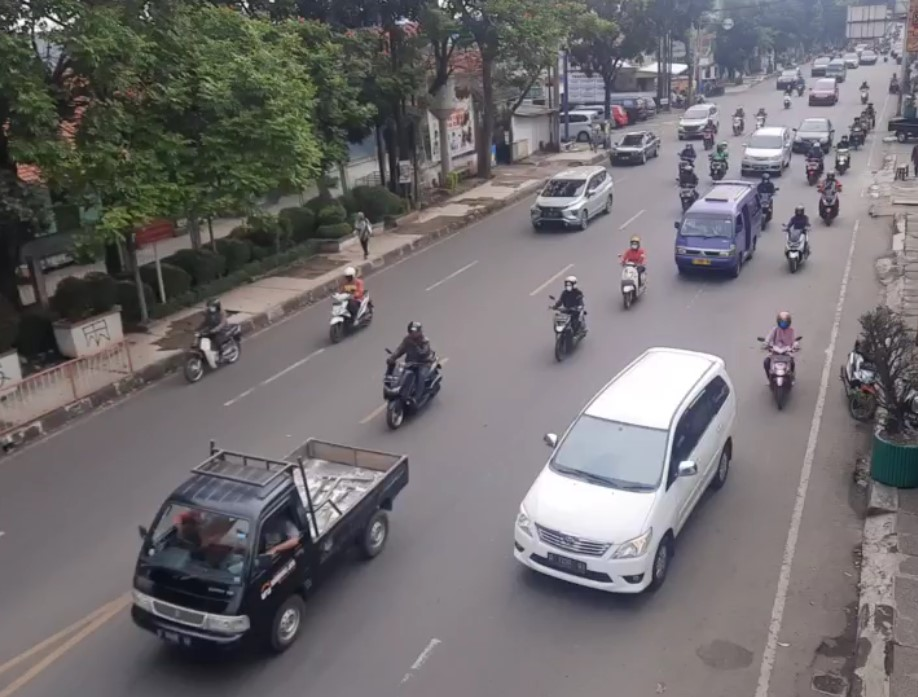motor: (378, 325, 455, 435), (757, 306, 809, 412), (186, 303, 250, 383), (548, 269, 593, 366), (324, 266, 378, 340), (608, 235, 653, 312), (783, 204, 816, 276)
